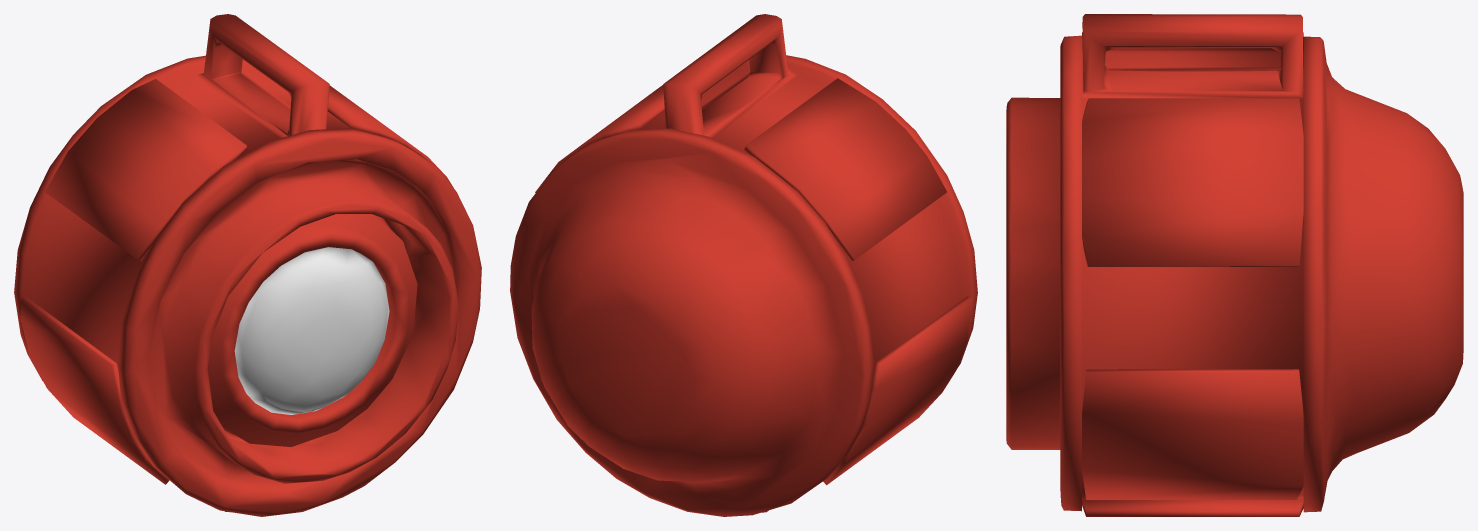
The model's file is WallLights.fbx.
3 renders of one model, left to right at view 1: azimuth 30°, elevation 25°; view 2: azimuth 150°, elevation 25°; view 3: azimuth 270°, elevation 25°, orthographic. The views are drawn at different scales.
Parts seen in each view (by area): view 1: Lights; view 2: Lights; view 3: Lights.
Part boxes in pixels (box(x1,y1,x2,y2)): Lights: box(14, 14, 481, 516); Lights: box(510, 14, 977, 516); Lights: box(1006, 14, 1463, 516).
Size of the model in its own units: 61.17 by 67.23 by 57.49.
